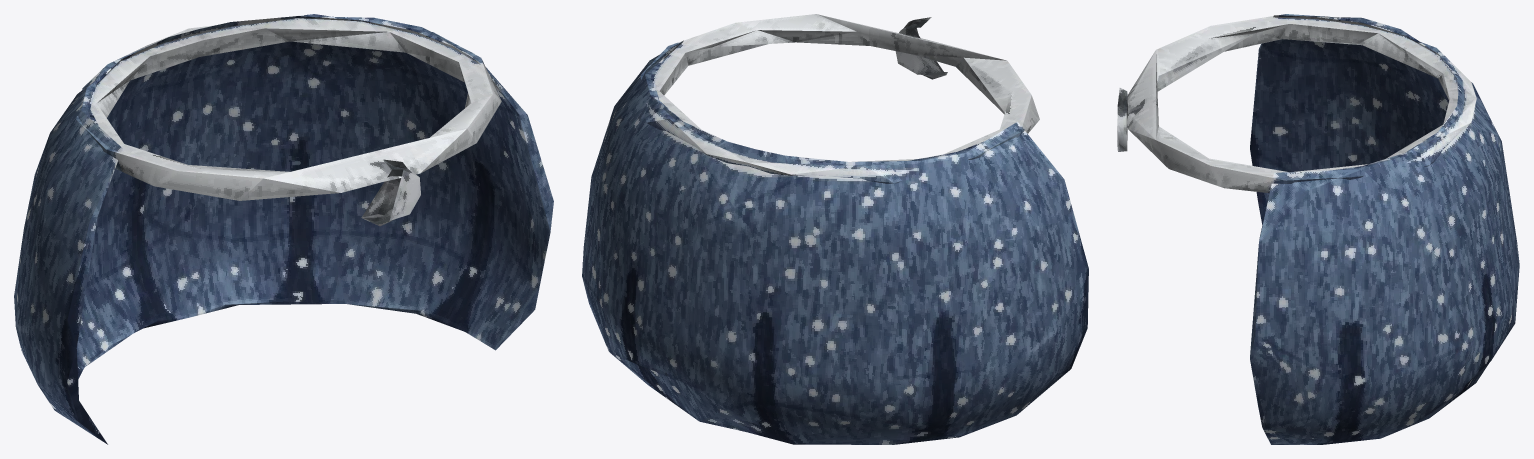
The model's file is moon_cape.glb.
3 renders of one model, left to right at view 1: azimuth 30°, elevation 25°; view 2: azimuth 150°, elevation 25°; view 3: azimuth 270°, elevation 25°, orthographic. The views are drawn at different scales.
Visible parts, largest first — view 1: moon_cape_mesh; view 2: moon_cape_mesh; view 3: moon_cape_mesh.
Boxes of the visible parts, x1,y1,x2,y2 form: moon_cape_mesh: (14, 14, 553, 444); moon_cape_mesh: (582, 14, 1088, 444); moon_cape_mesh: (1117, 14, 1519, 444).
Size of the model in its own units: 31.73 by 18.56 by 24.78.
1 material, 1 textured.
